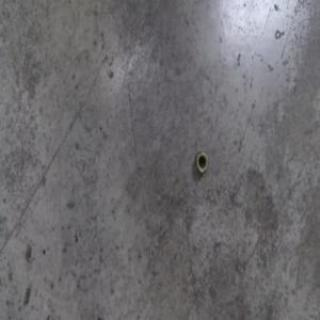Nuttrack_idkeyframe: (195, 150, 208, 175)
